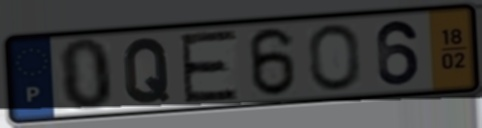0: (52, 36, 118, 114)
6: (246, 25, 298, 99), (373, 18, 423, 88)
E: (177, 27, 241, 105)
O: (304, 21, 364, 93)
Q: (121, 35, 172, 106)
